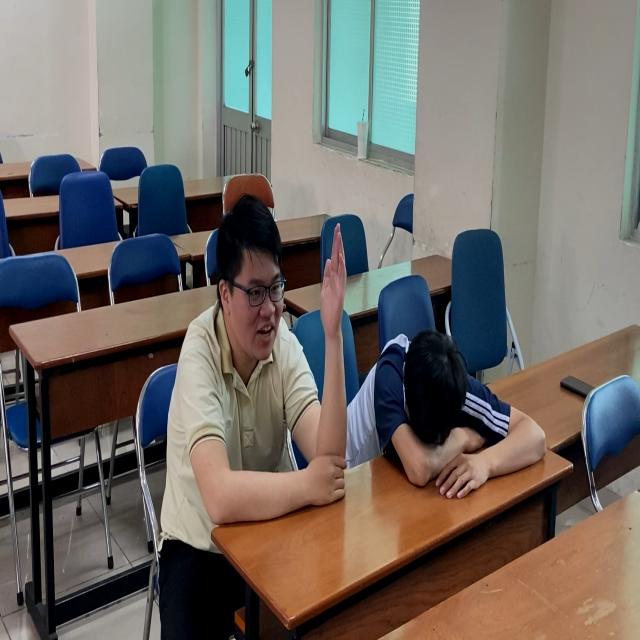raise_hand: (177, 205, 355, 527)
sleep: (346, 329, 550, 504)
